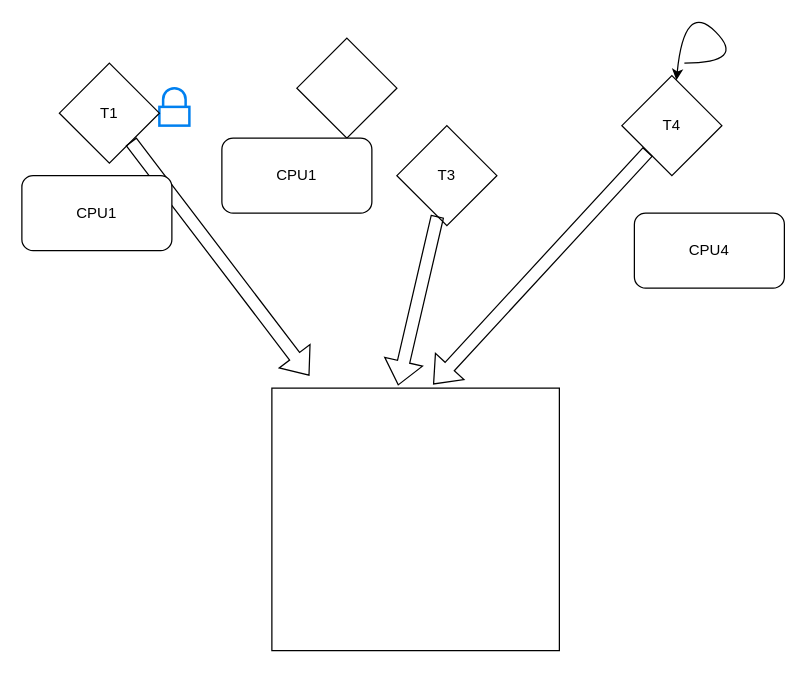
Some shapes in this 806 by 673 pixel diagram are drawn without their labels. Here are the shapes that lost their labels. From the top down, the box of each, then its label:
(296, 37, 397, 138): T2
(271, 387, 559, 651): Data structure (list, tree, hash, ...)
